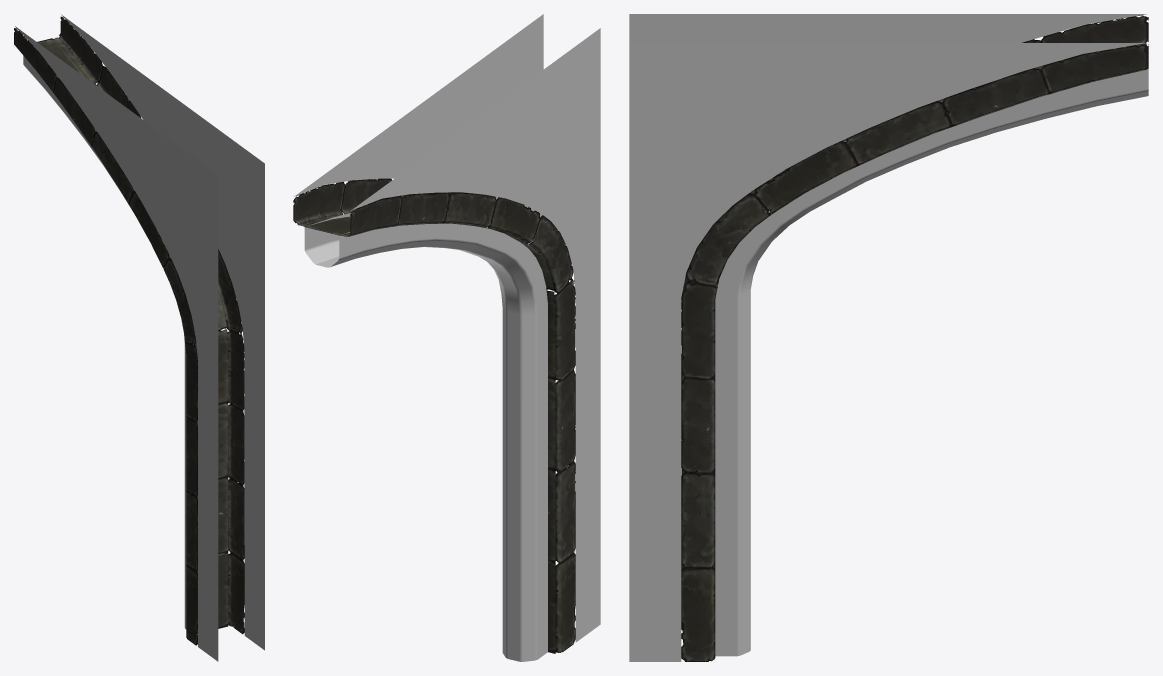
3 views of the same model, side by side, from view 1: azimuth 30°, elevation 25°; view 2: azimuth 150°, elevation 25°; view 3: azimuth 270°, elevation 25° (orthographic). The views are drawn at different scales.
Visible parts, largest first — view 1: SM_Greathall_Wall_8x10_04_LOD0; view 2: SM_Greathall_Wall_8x10_04_LOD0; view 3: SM_Greathall_Wall_8x10_04_LOD0.
Boxes of the visible parts, x1=… form: SM_Greathall_Wall_8x10_04_LOD0: x1=14, y1=14, x2=264, y2=661; SM_Greathall_Wall_8x10_04_LOD0: x1=293, y1=14, x2=600, y2=661; SM_Greathall_Wall_8x10_04_LOD0: x1=629, y1=14, x2=1148, y2=661.
Bounding box in the file's own units: 0.9998 × 10 × 7.6.
